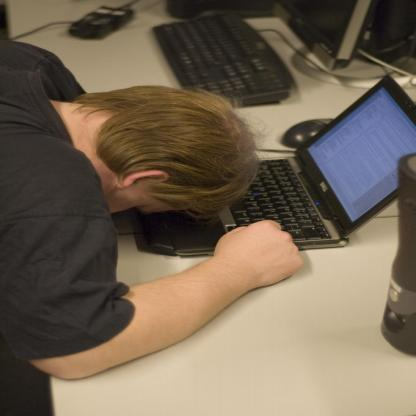board: (198, 73, 399, 302)
